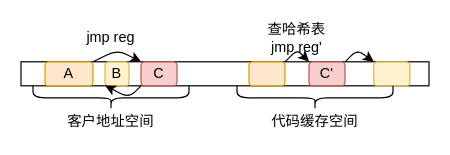
Some shapes in this 450 by 155 pixel diagram are drawn without their labels. The shapes that lost their labels are listed below. From the top down, each one's box as (x1, y1, x2, y2) in pixels, then its label:
(248, 61, 285, 86): A'
(373, 61, 410, 86): B'
